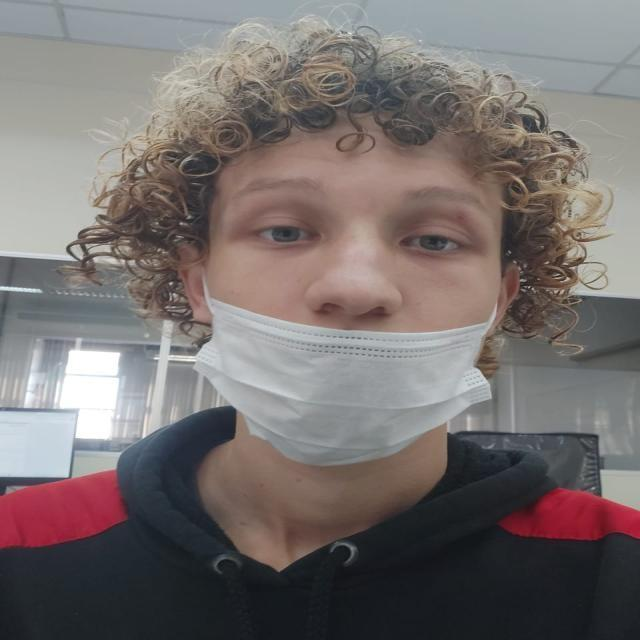hairnet: (225, 141, 512, 456)
